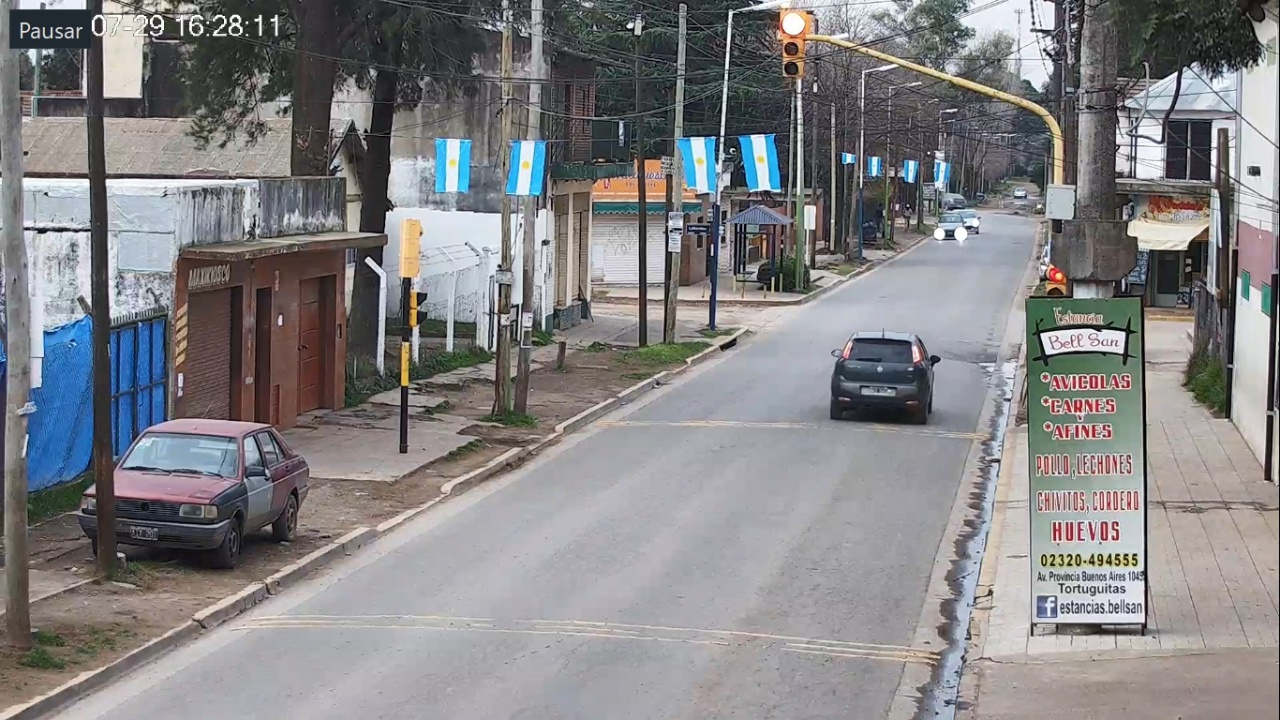car: (830, 332, 941, 425)
traffic light: (781, 11, 804, 77)
